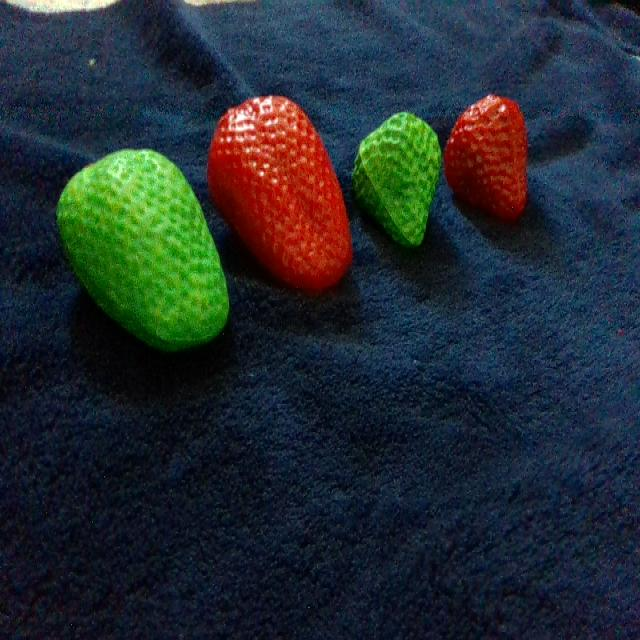chica_roja: (445, 95, 526, 219)
grande_roja: (208, 96, 350, 289)
verde: (59, 151, 228, 349), (352, 113, 441, 245)
